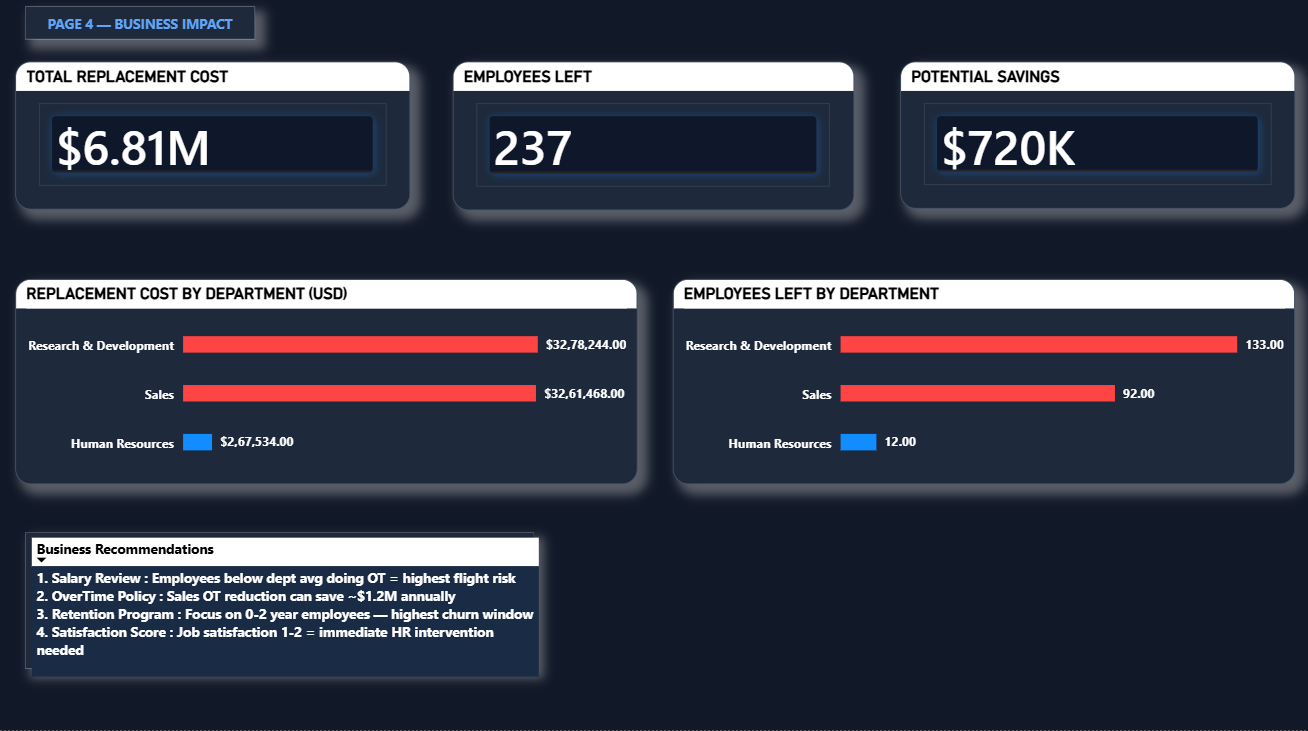

This screenshot's page, from the dashboard's own definition file:
{"tool":"powerbi","page":{"name":"BUSINESS IMPACT","canvas":[1280,720],"ordinal":3},"visuals":[{"type":"shape","title":"PAGE 1 — EXECUTIVE OVERVIEW","box":[26,526.7,497.9,132.8],"z":3000},{"type":"cardVisual","title":"TOTAL REPLACEMENT COST","fields":{"Data":["Sum(powerbi_cost_analysis.Replacement_Cost_USD)"]},"box":[16.2,66.2,386.6,144.6],"z":4000},{"type":"cardVisual","title":"POTENTIAL SAVINGS","fields":{"Data":["powerbi_cost_analysis.Potential Saving"]},"box":[881.7,66,386.4,144.3],"z":5000},{"type":"cardVisual","title":"EMPLOYEES LEFT","fields":{"Data":["Sum(powerbi_cost_analysis.Employees_Left)"]},"box":[444.5,66.4,392.5,145.7],"z":6000},{"type":"clusteredBarChart","title":"REPLACEMENT COST BY DEPARTMENT (USD)","fields":{"Category":["powerbi_cost_analysis.Department"],"Y":["Sum(powerbi_cost_analysis.Replacement_Cost_USD)"]},"box":[15.9,278.5,609,200.6],"z":7000},{"type":"clusteredBarChart","title":"EMPLOYEES LEFT BY DEPARTMENT","fields":{"Category":["powerbi_cost_analysis.Department"],"Y":["Sum(powerbi_cost_analysis.Employees_Left)"]},"box":[659.5,278.5,609,200.6],"z":8000},{"type":"shape","title":"PAGE 1 — EXECUTIVE OVERVIEW","box":[25.4,12.7,224.6,31.7],"z":9000},{"type":"tableEx","fields":{"Values":["powerbi_main_data.Business Recommendations"]},"box":[26,526.7,516.6,155.9],"z":10000}]}

Visuals, with their boxes in screenshot pixels (x1, y1, x2, y2), scaled from the page's 1280x720 canvas onto the 1308x731 screenshot:
"PAGE 1 — EXECUTIVE OVERVIEW" shape: <region>27, 535, 535, 670</region>
"TOTAL REPLACEMENT COST" cardVisual: <region>17, 67, 412, 214</region>
"POTENTIAL SAVINGS" cardVisual: <region>901, 67, 1296, 214</region>
"EMPLOYEES LEFT" cardVisual: <region>454, 67, 855, 215</region>
"REPLACEMENT COST BY DEPARTMENT (USD)" clusteredBarChart: <region>16, 283, 639, 486</region>
"EMPLOYEES LEFT BY DEPARTMENT" clusteredBarChart: <region>674, 283, 1296, 486</region>
"PAGE 1 — EXECUTIVE OVERVIEW" shape: <region>26, 13, 255, 45</region>
tableEx - powerbi_main_data.Business Recommendations: <region>27, 535, 554, 693</region>
